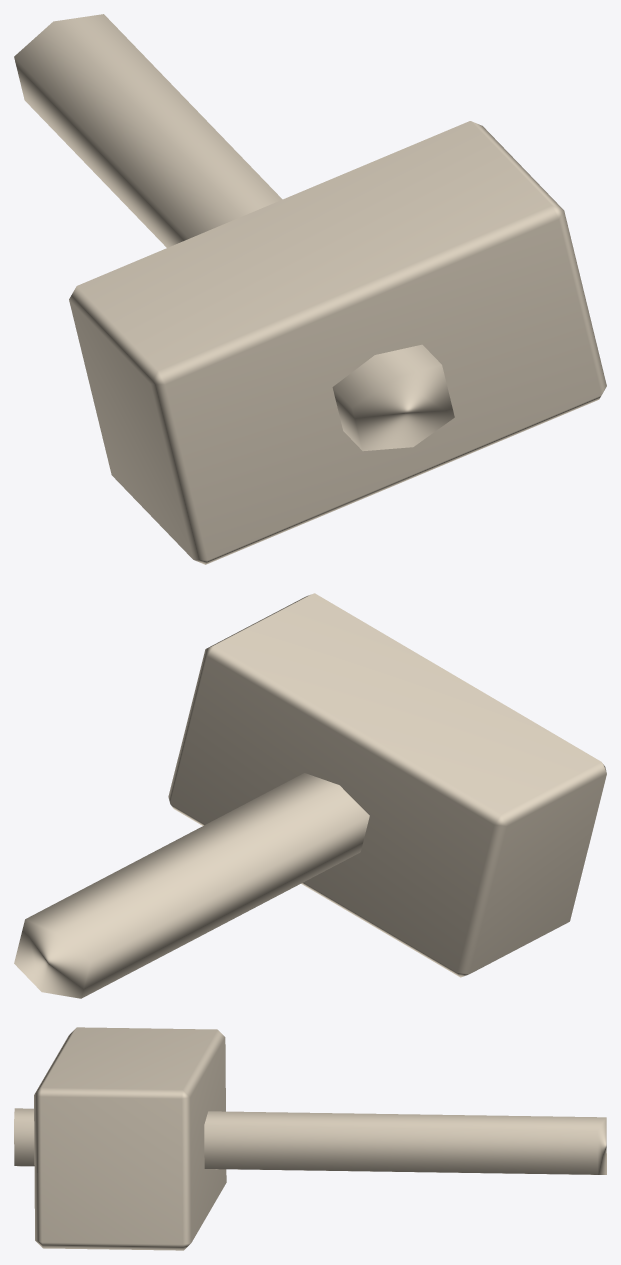
The model's file is hammer-base.glb.
3 views of the same model, one above another, from view 1: azimuth 30°, elevation 25°; view 2: azimuth 150°, elevation 25°; view 3: azimuth 270°, elevation 25° (orthographic). The views are drawn at different scales.
Bounding box in the file's own units: 0.4218 × 0.2746 × 0.6887.
